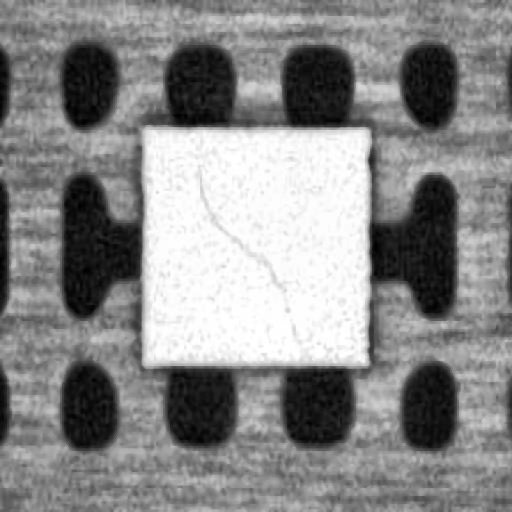DIE_CRACK: (197, 162, 296, 339)
